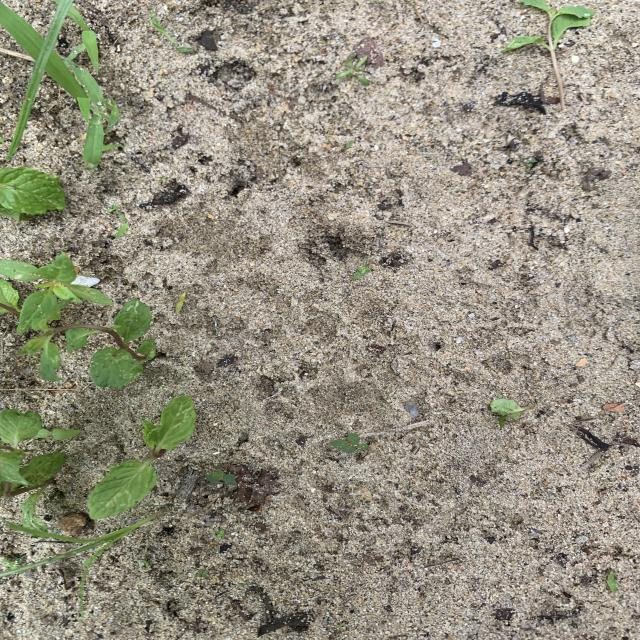crop: (89, 396, 194, 519), (22, 300, 155, 387), (1, 409, 78, 526), (504, 1, 594, 50), (0, 167, 66, 219), (490, 399, 533, 427)
weed: (0, 516, 157, 615), (1, 1, 85, 157), (0, 253, 112, 333), (67, 2, 98, 74), (84, 105, 119, 167), (151, 12, 193, 51), (336, 55, 369, 84), (331, 433, 367, 457), (107, 206, 127, 238), (206, 470, 236, 487), (353, 263, 370, 279), (606, 570, 618, 591), (3, 557, 23, 569), (108, 205, 124, 219), (116, 218, 127, 237), (176, 294, 185, 311), (521, 157, 535, 167), (196, 568, 208, 577), (215, 530, 226, 538)
